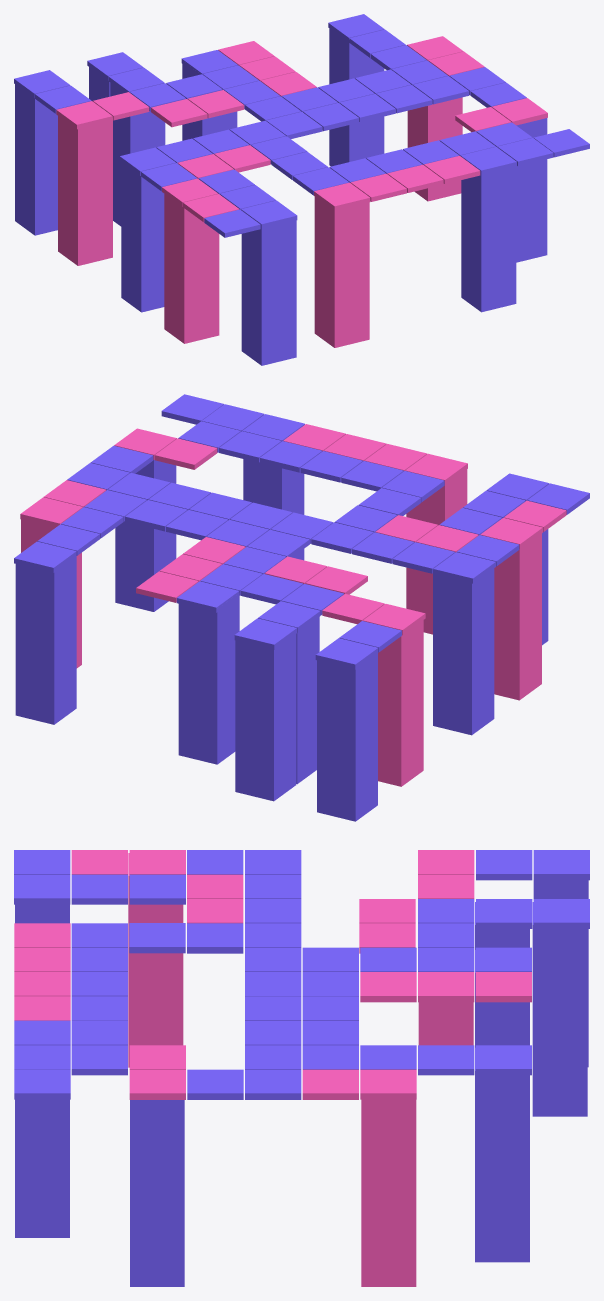
The picture shows the model from 3 angles, top to bottom: view 1: azimuth 30°, elevation 25°; view 2: azimuth 150°, elevation 25°; view 3: azimuth 270°, elevation 25°; orthographic projection. The views are drawn at different scales.
Parts seen in each view (by area): view 1: pillar_5, pillar_2, pillar_6, pillar, pillar_1, pillar_4, pillar_3, pillar_9, pillar_7, pillar_8, pillar_11, pillar_10 (+64 smaller); view 2: pillar_9, pillar_4, pillar_12, pillar_3, pillar_10, pillar_1, pillar_2, pillar_7, pillar_11, pillar_5, pillar_6, pillar_8 (+64 smaller); view 3: pillar_12, pillar_8, pillar_9, pillar_7, pillar_6, pillar_1, pillar_10, pillar_2, Cube_3, Cube_13, 立方体_6, Cube_3_4 (+62 smaller).
Part boxes in pixels (<box>): pillar_5: <box>314,197,369,347</box>; pillar_2: <box>58,116,112,265</box>; pillar_6: <box>461,167,516,312</box>; pillar: <box>241,220,296,365</box>; pillar_1: <box>164,194,219,343</box>; pillar_4: <box>121,162,164,312</box>; pillar_3: <box>15,84,57,235</box>; pillar_9: <box>329,28,384,166</box>; pillar_7: <box>516,118,547,262</box>; pillar_8: <box>407,97,462,201</box>; pillar_11: <box>110,83,165,226</box>; pillar_10: <box>182,61,237,140</box>; pillar_9: <box>15,556,76,724</box>; pillar_4: <box>433,568,494,735</box>; pillar_12: <box>235,634,296,801</box>; pillar_3: <box>317,653,377,821</box>; pillar_10: <box>178,593,239,764</box>; pillar_1: <box>494,533,541,700</box>; pillar_2: <box>378,620,423,786</box>; pillar_7: <box>115,460,176,611</box>; pillar_11: <box>296,617,319,784</box>; pillar_5: <box>406,469,467,634</box>; pillar_6: <box>243,459,304,560</box>; pillar_8: <box>21,519,81,668</box>; pillar_12: <box>532,902,587,1116</box>; pillar_8: <box>361,1099,416,1286</box>; pillar_9: <box>475,1047,529,1262</box>; pillar_7: <box>130,1100,184,1286</box>; pillar_6: <box>15,1099,69,1237</box>; pillar_1: <box>128,853,183,1067</box>; pillar_10: <box>475,950,529,1047</box>; pillar_2: <box>418,1002,473,1045</box>; Cube_3: <box>187,1069,243,1099</box>; Cube_13: <box>129,923,185,953</box>; 立方体_6: <box>14,1069,70,1099</box>; Cube_3_4: <box>187,923,243,953</box>.
Size of the model in its own units: 818 by 304 by 818.
